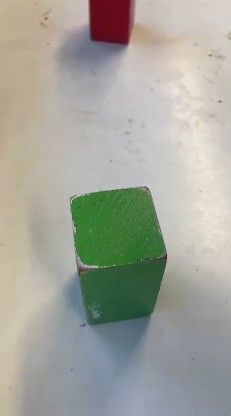green: (65, 198, 159, 324)
